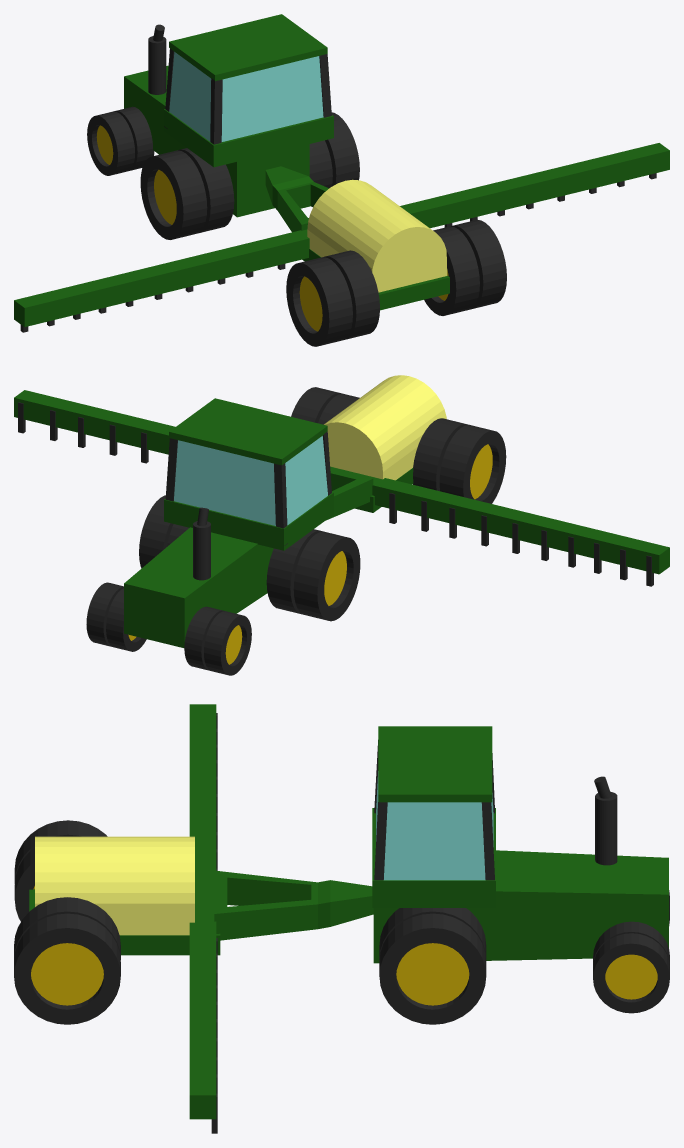
Rendered from fertilizer.gltf.
The picture shows the model from 3 angles, top to bottom: view 1: azimuth 30°, elevation 25°; view 2: azimuth 150°, elevation 25°; view 3: azimuth 270°, elevation 25°; orthographic projection. The views are drawn at different scales.
Visible parts, largest first — view 1: Cube.001, Cylinder, Cube.025, Cube.026, Cube.024, Tire.003, Tire.007, Cube.023, Tire.001, Tire.011, Tire, Tire.002 (+9 smaller); view 2: Cube.001, Cube.024, Cube.025, Cylinder, Cube.026, Tire.007, Tire.003, Cube.023, Tire.011, Tire.002, Tire.006, Cube.022 (+9 smaller); view 3: Cube.024, Cylinder, Cube.001, Tire.004, Tire, Cube.026, Cube.022, Cube.025, Tire.008, Cube.023, Tire.001, Cube (+7 smaller).
Boxes of the visible parts, bbox=[...] form: Cube.001: bbox=[14, 143, 669, 327]; Cylinder: bbox=[307, 179, 447, 292]; Cube.025: bbox=[169, 52, 323, 141]; Cube.026: bbox=[169, 14, 327, 81]; Cube.024: bbox=[124, 65, 309, 217]; Tire.003: bbox=[286, 257, 352, 346]; Tire.007: bbox=[140, 150, 207, 239]; Cube.023: bbox=[164, 109, 333, 167]; Tire.001: bbox=[424, 226, 479, 315]; Tire.011: bbox=[87, 111, 134, 175]; Tire: bbox=[451, 219, 506, 309]; Tire.002: bbox=[324, 250, 379, 339]; Cube.001: bbox=[14, 390, 669, 574]; Cube.024: bbox=[124, 527, 273, 647]; Cube.025: bbox=[174, 436, 327, 525]; Cylinder: bbox=[324, 375, 446, 480]; Cube.026: bbox=[169, 398, 327, 465]; Tire.007: bbox=[293, 531, 360, 621]; Tire.003: bbox=[439, 425, 506, 503]; Cube.023: bbox=[164, 492, 333, 550]; Tire.011: bbox=[204, 611, 251, 675]; Tire.002: bbox=[413, 418, 468, 491]; Tire.006: bbox=[266, 529, 322, 614]; Cube.022: bbox=[326, 468, 373, 520]; Cube.024: bbox=[373, 850, 668, 963]; Cylinder: bbox=[35, 836, 194, 935]; Cube.001: bbox=[189, 704, 216, 1119]; Tire.004: bbox=[379, 913, 486, 1024]; Tire: bbox=[14, 913, 120, 1024]; Cube.026: bbox=[378, 726, 492, 802]; Cube.022: bbox=[214, 870, 373, 940]; Cube.025: bbox=[376, 771, 493, 880]; Tire.008: bbox=[593, 933, 669, 1013]; Cube.023: bbox=[372, 808, 495, 907]; Tire.001: bbox=[14, 897, 120, 959]; Cube: bbox=[29, 889, 220, 955].
Size of the model in its own units: 22.02 by 5.57 by 15.6.
